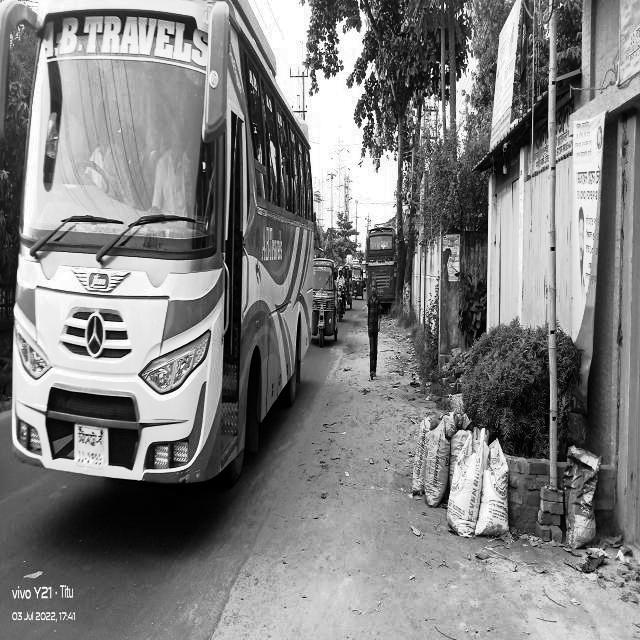Bus: (2, 19, 319, 475), (362, 202, 400, 316)
